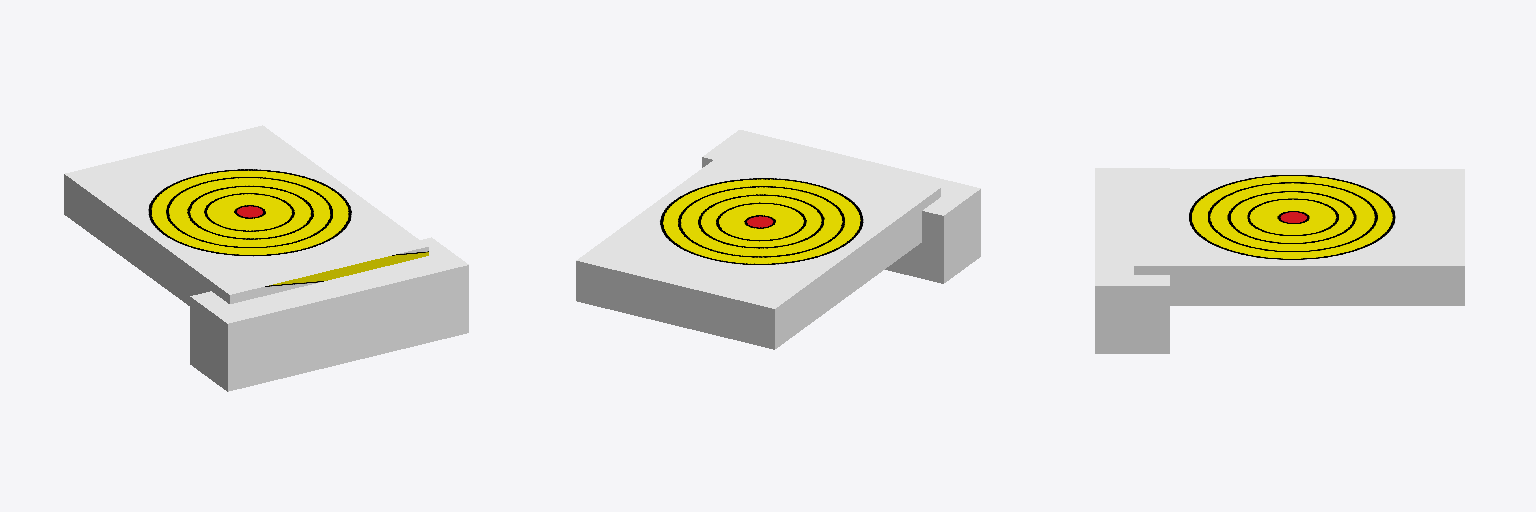
The picture shows the model from 3 angles: view 1: azimuth 30°, elevation 25°; view 2: azimuth 150°, elevation 25°; view 3: azimuth 270°, elevation 25°; orthographic projection.
Visible parts, largest first — view 1: matoon:pCube2, matoon:pCube1; view 2: matoon:pCube2, matoon:pCube1; view 3: matoon:pCube2, matoon:pCube1.
Part boxes in pixels (left/top/right/bottom): matoon:pCube2: left=64, top=125, right=428, bottom=305; matoon:pCube1: left=190, top=237, right=468, bottom=391; matoon:pCube2: left=576, top=140, right=940, bottom=349; matoon:pCube1: left=702, top=130, right=980, bottom=283; matoon:pCube2: left=1134, top=169, right=1464, bottom=305; matoon:pCube1: left=1095, top=168, right=1169, bottom=353.
Bounding box in the file's own units: 3.71 × 1.14 × 4.92.
Materials: 2 (1 with a texture image).